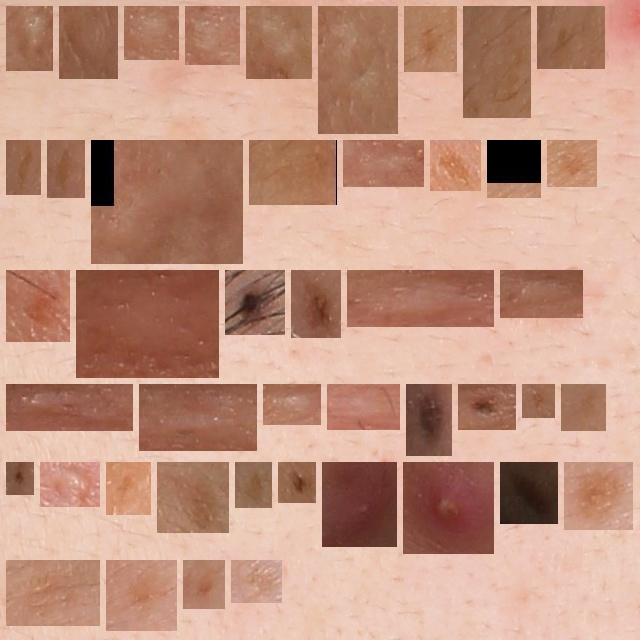hypertrophic_scar: (99, 148, 235, 256), (84, 278, 211, 370), (326, 14, 390, 126), (355, 278, 486, 319), (147, 392, 249, 443), (14, 392, 125, 423), (254, 14, 304, 71), (67, 14, 110, 71), (508, 278, 575, 310), (351, 148, 416, 179), (335, 392, 392, 422), (193, 14, 232, 57), (14, 14, 45, 63), (132, 14, 171, 52), (48, 470, 92, 499), (271, 392, 313, 417)
melasma: (471, 14, 523, 110), (14, 568, 92, 618), (257, 148, 329, 197), (165, 470, 221, 525), (114, 568, 169, 623), (572, 470, 625, 522), (14, 278, 62, 334), (545, 14, 597, 61), (412, 14, 449, 64), (495, 148, 533, 190), (438, 148, 473, 183), (114, 470, 143, 507), (555, 148, 589, 179), (239, 568, 274, 595), (55, 148, 77, 190), (569, 392, 598, 423), (191, 568, 217, 601), (14, 148, 33, 187), (243, 470, 264, 500), (530, 392, 547, 410)
nevus: (233, 278, 277, 327), (508, 470, 550, 516), (299, 278, 333, 330), (414, 392, 444, 448), (466, 392, 508, 422), (286, 470, 308, 495), (14, 470, 26, 487)
pustule: (411, 470, 486, 546), (330, 470, 389, 539)
